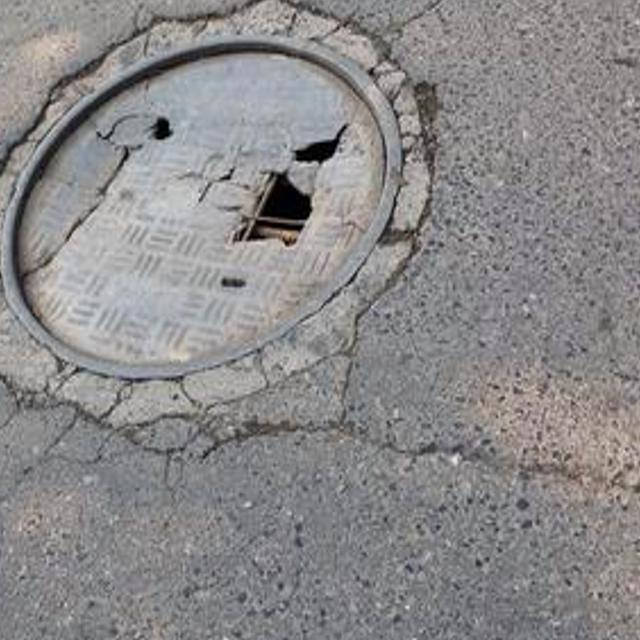broke: (0, 0, 440, 447)
